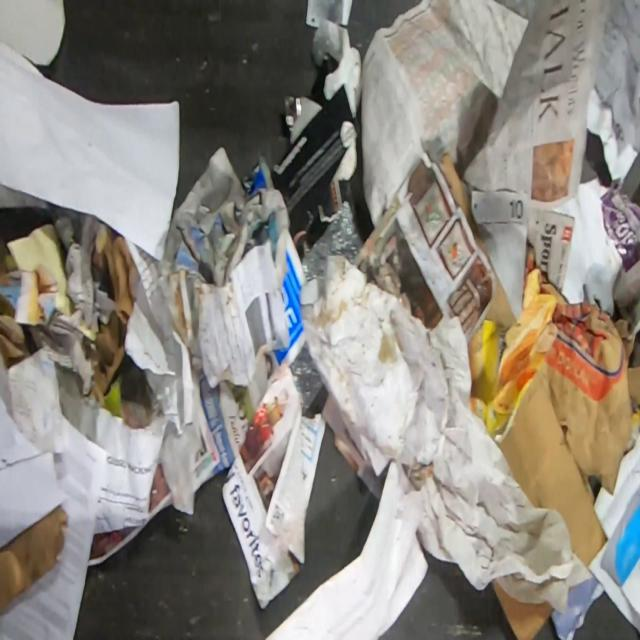cardboard: (496, 370, 609, 570), (436, 150, 518, 330), (0, 224, 73, 370), (0, 505, 69, 614), (493, 578, 555, 639)
soft_plastic: (302, 200, 364, 299), (289, 340, 325, 410)
